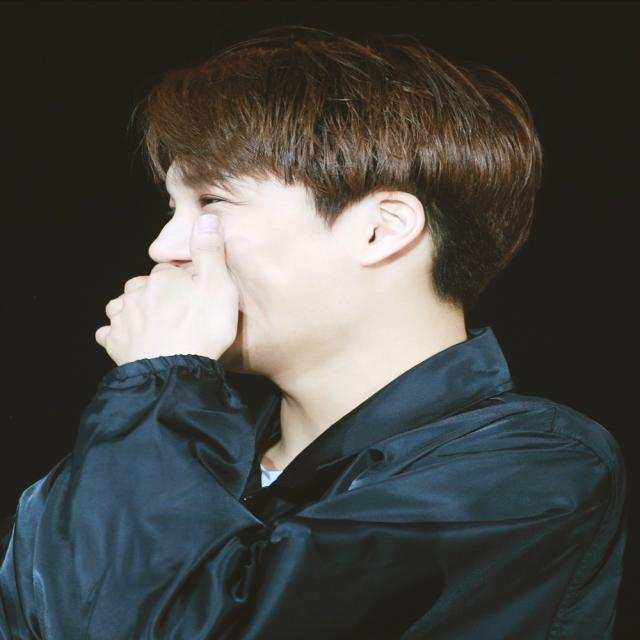nomask: (148, 152, 337, 368)
